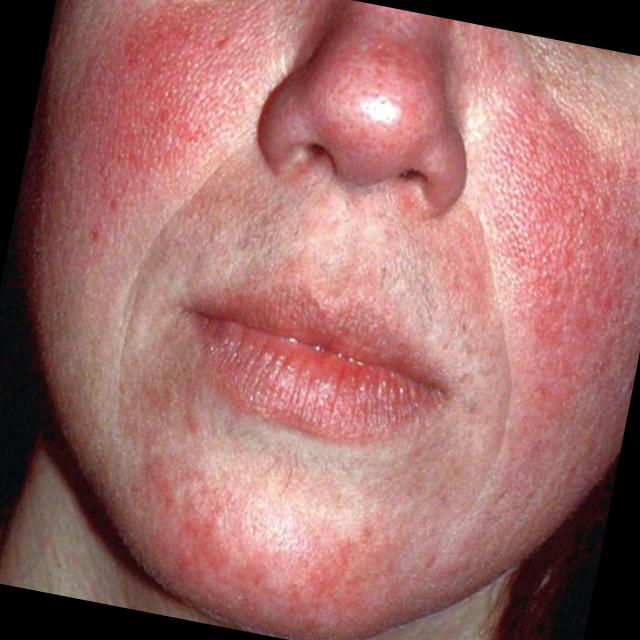redness: (452, 20, 640, 515), (122, 397, 404, 632), (82, 0, 300, 247), (315, 25, 446, 170)
